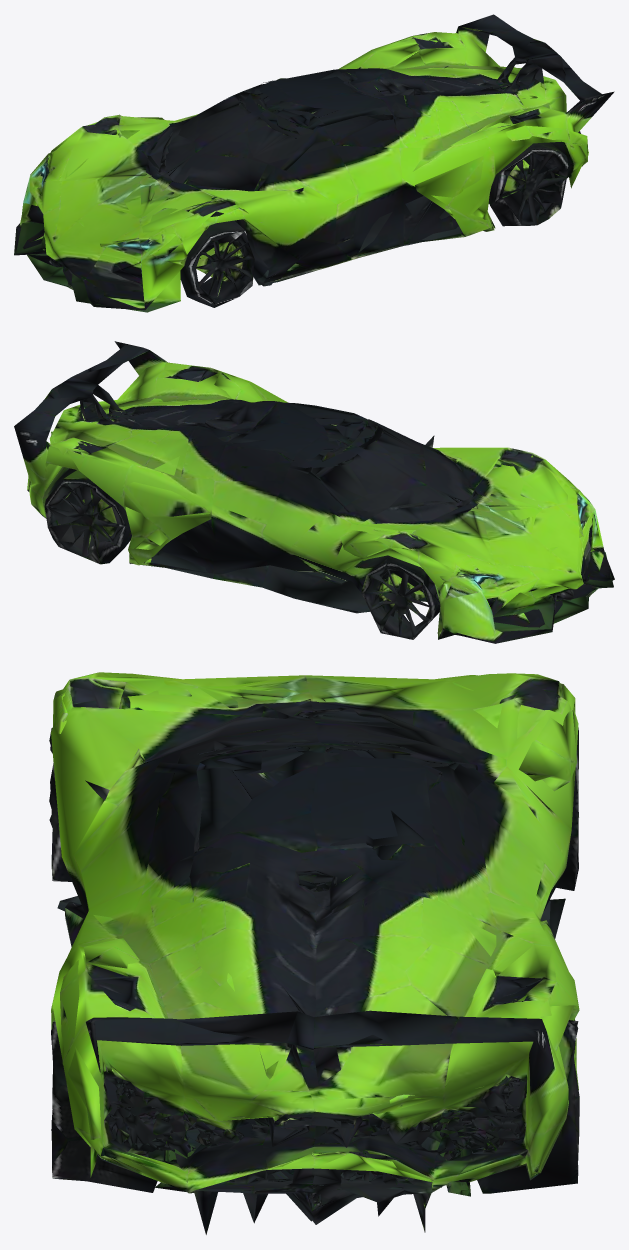
File: sr_oil.glb
3 renders of one model, top to bottom at view 1: azimuth 30°, elevation 25°; view 2: azimuth 150°, elevation 25°; view 3: azimuth 270°, elevation 25°, orthographic. The views are drawn at different scales.
Size of the model in its own units: 1.89 by 0.4366 by 0.8318.
1 material, 1 textured.
